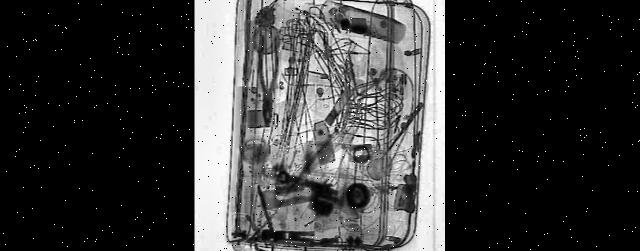Wrench: (258, 31, 279, 122)
